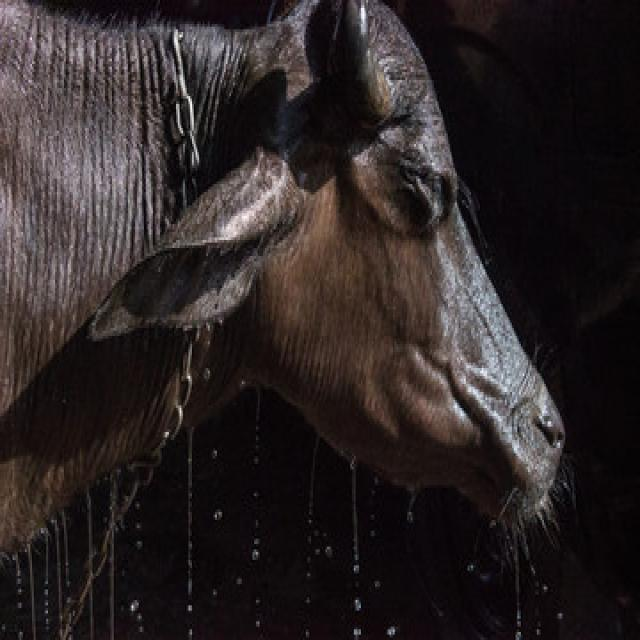Buffalo: (0, 12, 562, 571)
